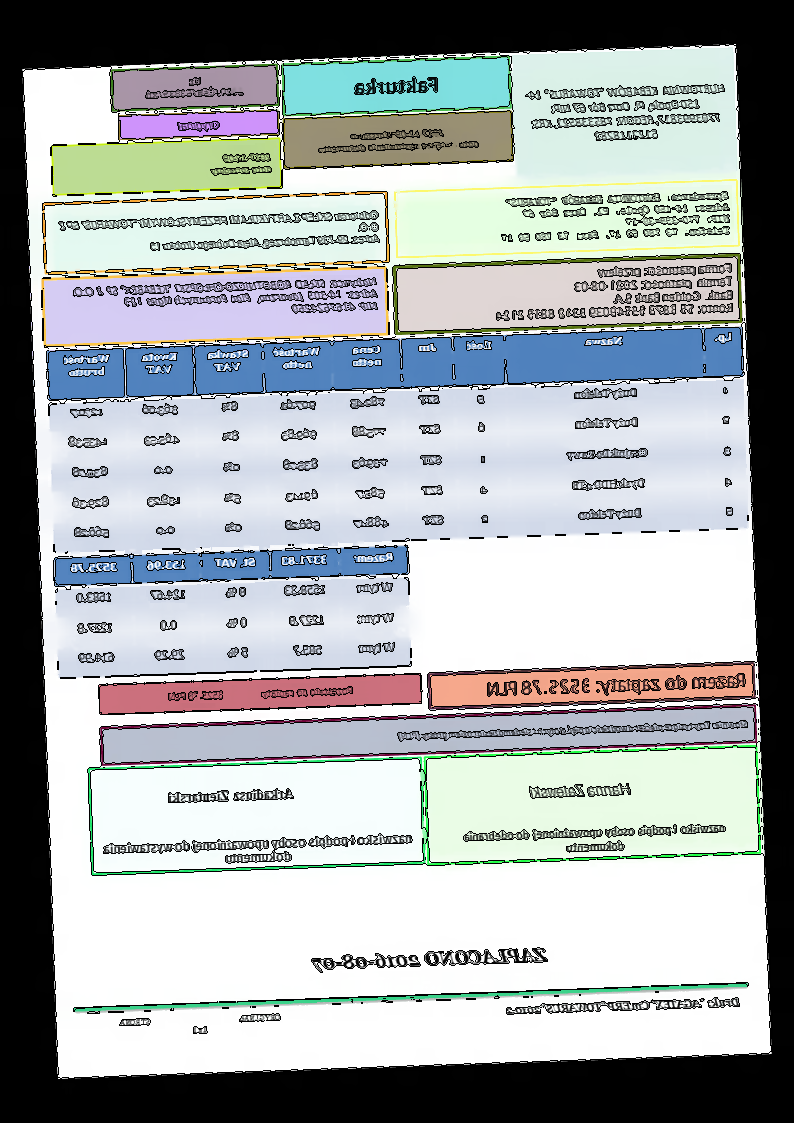Table: (45, 324, 751, 555), (53, 543, 414, 677)
TextBox: (55, 204, 384, 260), (68, 271, 383, 327), (492, 260, 738, 323), (497, 185, 735, 247), (523, 79, 729, 149), (99, 826, 416, 870), (458, 817, 730, 860), (395, 713, 753, 745), (484, 664, 752, 701), (307, 940, 551, 978), (500, 993, 744, 1021), (314, 121, 484, 157), (117, 1009, 284, 1041), (163, 679, 359, 706), (164, 783, 297, 810), (140, 71, 246, 103), (527, 774, 636, 804), (351, 71, 445, 98), (208, 148, 276, 181), (173, 115, 223, 134)
